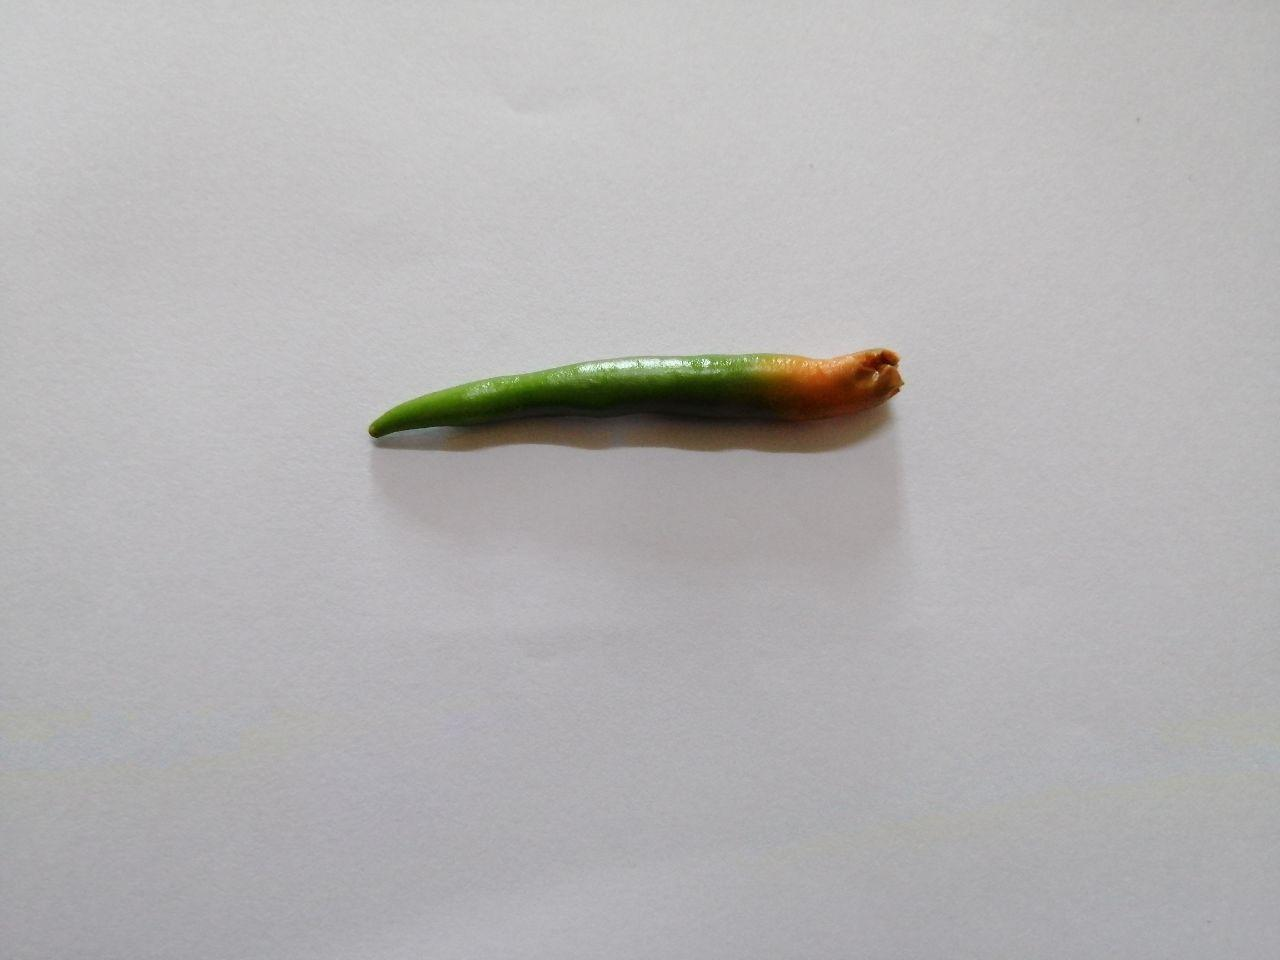lada hijau: (349, 325, 925, 506)
